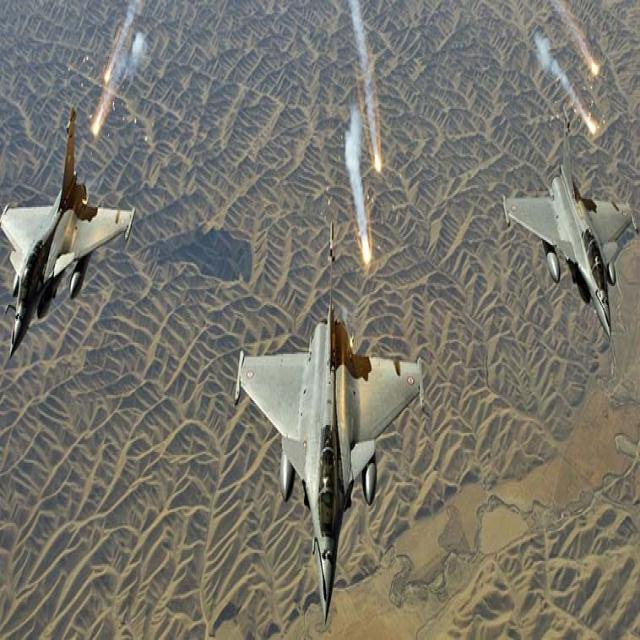MIL_Plane: (234, 219, 425, 625), (1, 106, 136, 360), (501, 109, 640, 339)
